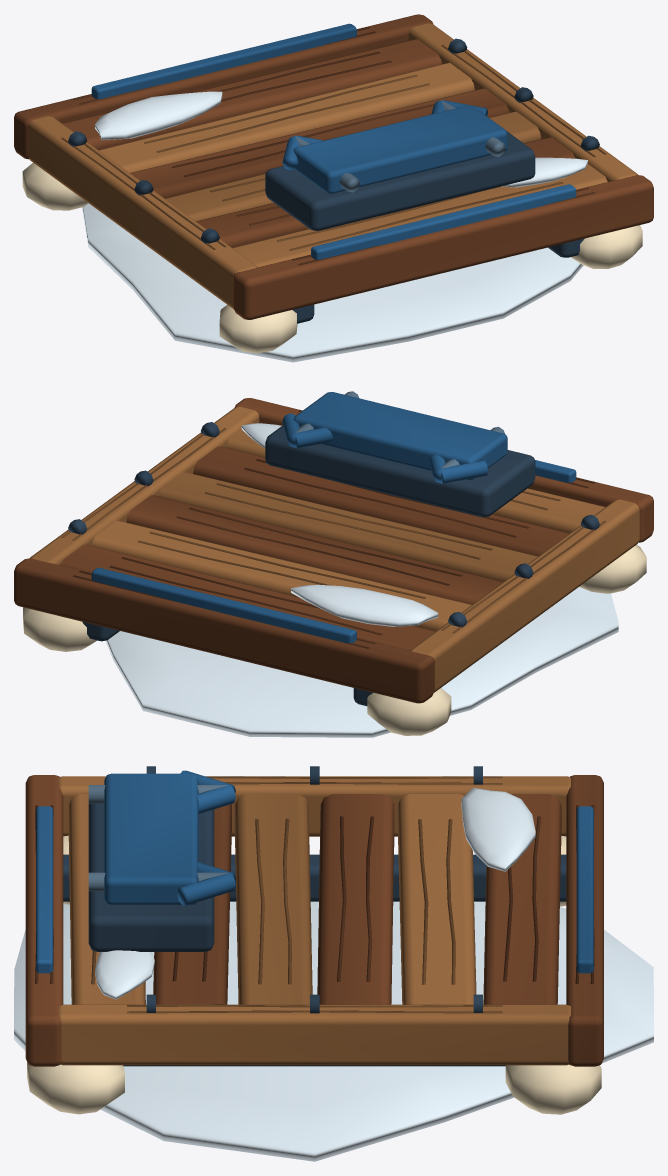
The model's file is pad_output.glb.
The picture shows the model from 3 angles, top to bottom: view 1: azimuth 30°, elevation 25°; view 2: azimuth 150°, elevation 25°; view 3: azimuth 270°, elevation 25°; orthographic projection. The views are drawn at different scales.
Visible parts, largest first — view 1: pad_output; view 2: pad_output; view 3: pad_output.
Boxes of the visible parts, x1,y1,x2,y2 form: pad_output: (14, 14, 653, 362); pad_output: (14, 391, 653, 737); pad_output: (14, 766, 653, 1161).
Size of the model in its own units: 2.14 by 0.725 by 2.04.
